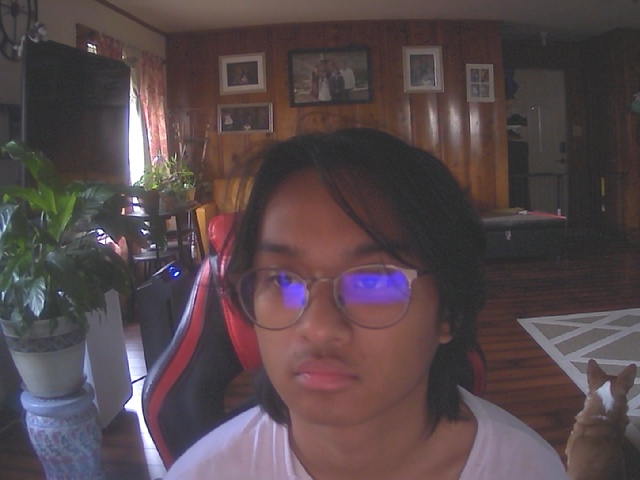neutral: (228, 131, 473, 432)
